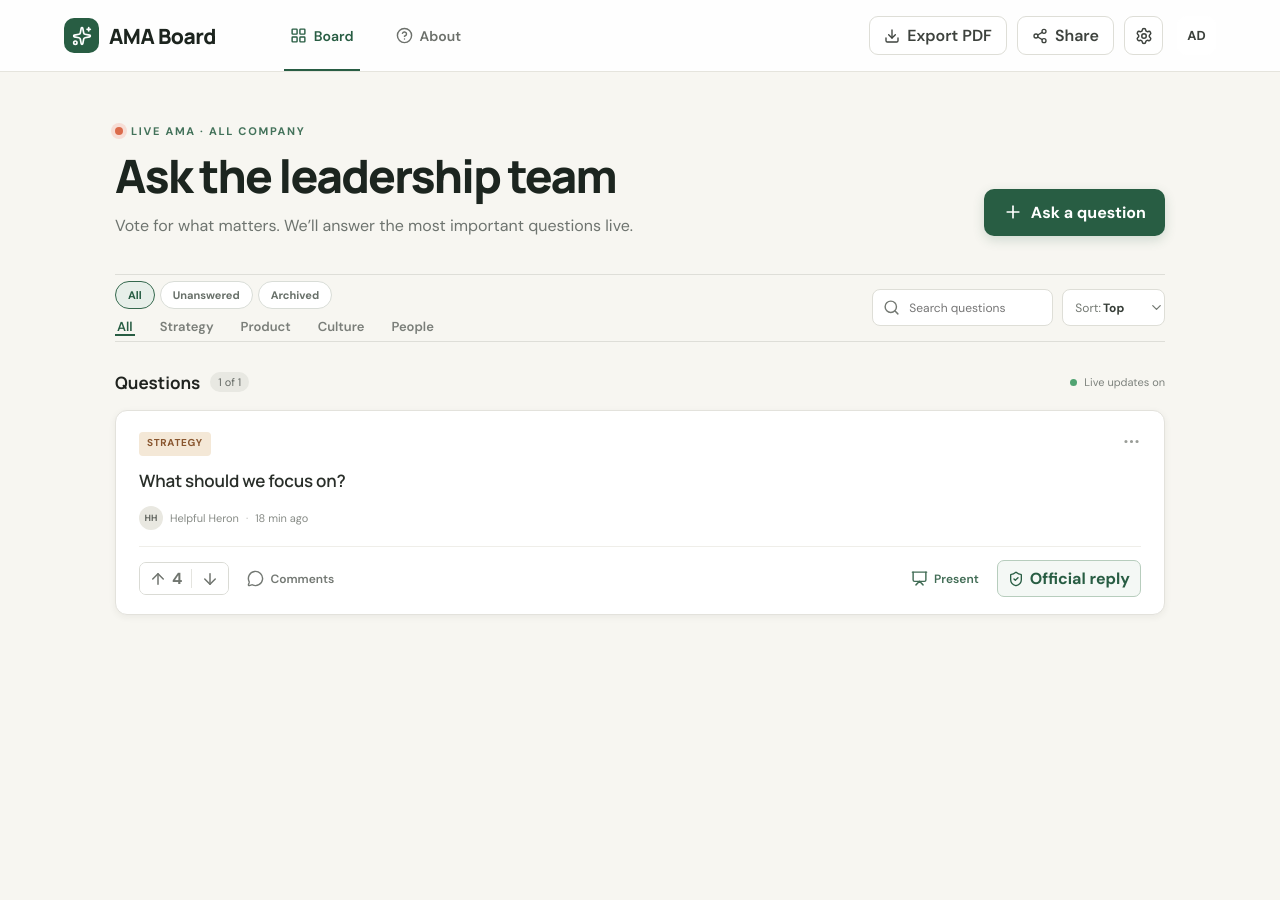
Test: AMA board › opens presentation mode for a question
Click the button "Present": click(945, 579) [911,563,979,594]
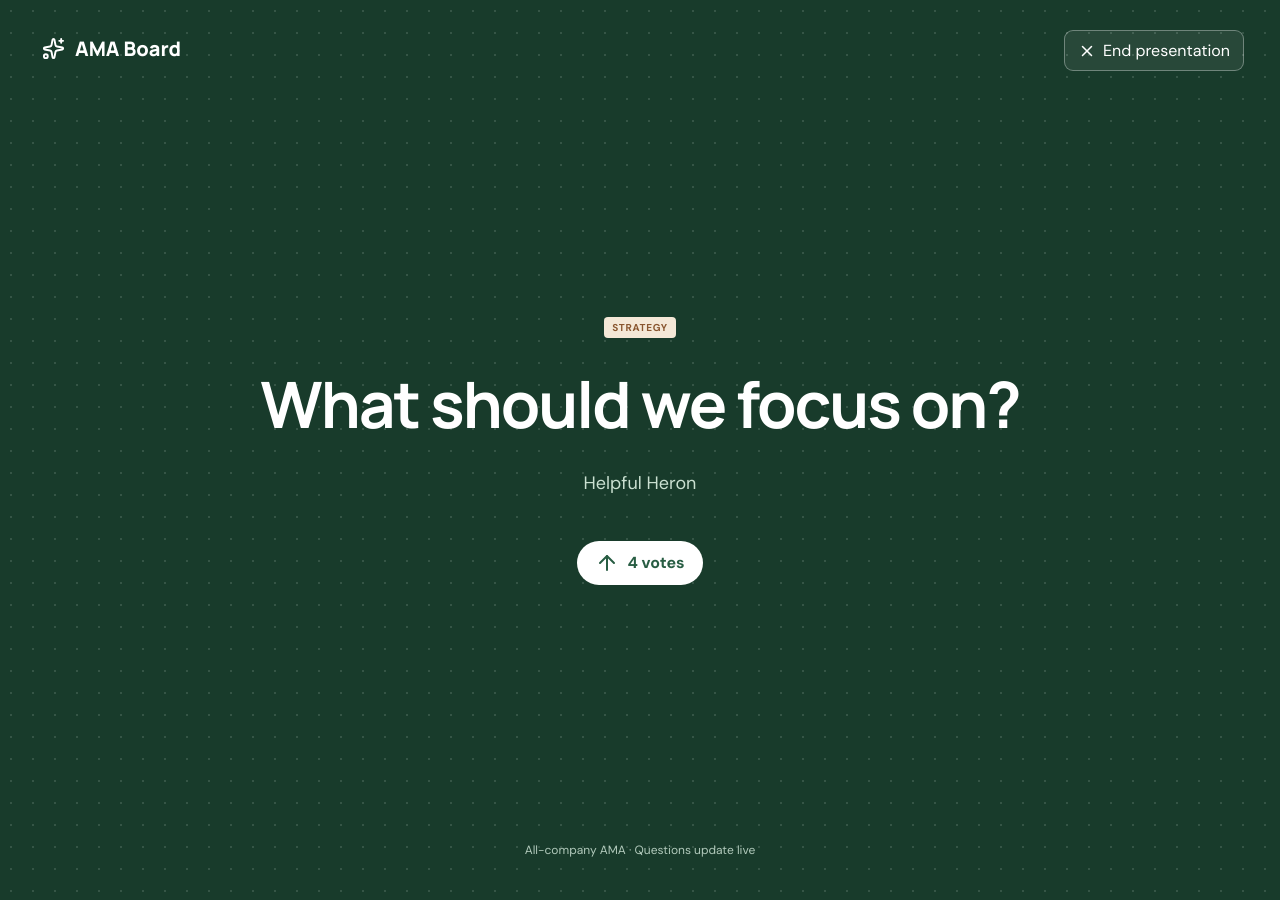
Expected: the dialog named "Presentation mode" is shown
Expected: the button "End presentation" is shown, [1064,30,1244,71]
